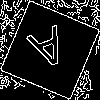A: (25, 25, 74, 80)
